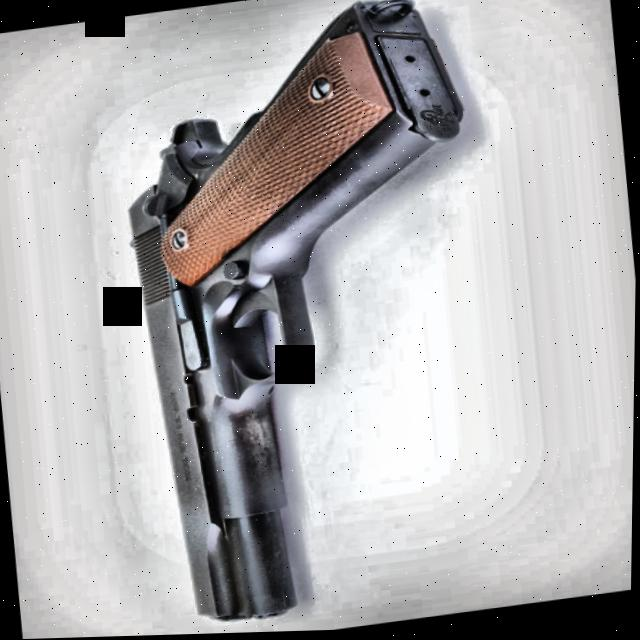Colt m1911: (101, 0, 516, 635)
